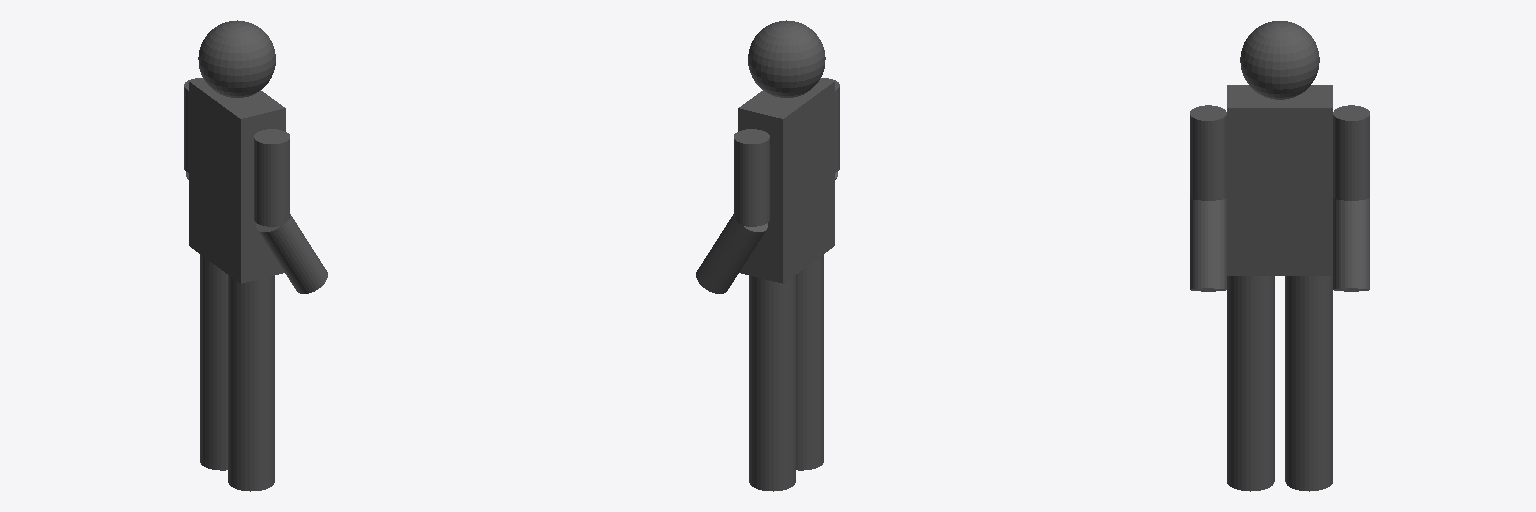
robot.urdf — person:
<?xml version="1.0" ?>
<!-- =================================================================================== -->
<!-- |    This document was autogenerated by xacro from person.test.xacro              | -->
<!-- |    EDITING THIS FILE BY HAND IS NOT RECOMMENDED                                 | -->
<!-- =================================================================================== -->
<robot name="person" xmlns:xacro="http://ros.org/wiki/xacro">
  <!-- Included URDF Files -->
  <material name="light_grey">
    <color rgba="0.7 0.7 0.7 1"/>
  </material>
  <material name="dark_grey">
    <color rgba="0.4 0.4 0.4 1"/>
  </material>
  <!-- Add the person -->
  <link name="base_footprint">
    <visual>
      <origin rpy="0 0 0" xyz="0 0 0"/>
      <geometry>
        <box size="0.001 0.001 0.001"/>
      </geometry>
    </visual>
  </link>
  <joint name="base_link_joint" type="fixed">
    <origin rpy="0 0 0" xyz="0.0 0 1.25"/>
    <parent link="base_footprint"/>
    <child link="base_link"/>
  </joint>
  <link name="base_link">
    <inertial>
      <mass value="40"/>
      <origin xyz="0 0 0"/>
      <inertia ixx="1.0" ixy="0.0" ixz="0.0" iyy="1.0" iyz="0.0" izz="1.0"/>
    </inertial>
    <visual>
      <geometry>
        <box size="0.2 0.4 0.7"/>
      </geometry>
      <material name="dark_grey"/>
    </visual>
    <collision>
      <geometry>
        <box size="0.2 0.4 0.6"/>
      </geometry>
    </collision>
  </link>
  <joint name="lidar_joint" type="fixed">
    <origin rpy="0 0 0" xyz="0.15 0 0"/>
    <parent link="base_link"/>
    <child link="lidar_link"/>
  </joint>
  <link name="lidar_link">
    <inertial>
      <mass value="0.001"/>
      <origin xyz="0 0 0"/>
      <inertia ixx="0.01" ixy="0.0" ixz="0.0" iyy="0.01" iyz="0.0" izz="0.01"/>
    </inertial>
  </link>
  <joint name="left_leg_joint" type="fixed">
    <origin rpy="0 0 0" xyz="0.0 0.11 -0.35"/>
    <parent link="base_link"/>
    <child link="left_leg_link"/>
  </joint>
  <link name="left_leg_link">
    <inertial>
      <mass value="40"/>
      <origin xyz="0 0 0"/>
      <inertia ixx="1.0" ixy="0.0" ixz="0.0" iyy="1.0" iyz="0.0" izz="1.0"/>
    </inertial>
    <visual>
      <origin xyz="0 0 -0.45"/>
      <geometry>
        <cylinder length="0.9" radius="0.09"/>
      </geometry>
      <material name="dark_grey"/>
    </visual>
    <collision>
      <origin xyz="0 0 -0.45"/>
      <geometry>
        <cylinder length="0.9" radius="0.09"/>
      </geometry>
    </collision>
  </link>
  <joint name="right_leg_joint" type="fixed">
    <origin rpy="0 0 0" xyz="0.0 -0.11 -0.35"/>
    <parent link="base_link"/>
    <child link="right_leg_link"/>
  </joint>
  <link name="right_leg_link">
    <inertial>
      <mass value="40"/>
      <origin xyz="0 0 0"/>
      <inertia ixx="1.0" ixy="0.0" ixz="0.0" iyy="1.0" iyz="0.0" izz="1.0"/>
    </inertial>
    <visual>
      <origin xyz="0 0 -0.45"/>
      <geometry>
        <cylinder length="0.9" radius="0.09"/>
      </geometry>
      <material name="dark_grey"/>
    </visual>
    <collision>
      <origin xyz="0 0 -0.45"/>
      <geometry>
        <cylinder length="0.9" radius="0.09"/>
      </geometry>
    </collision>
  </link>
  <joint name="head_joint" type="fixed">
    <origin rpy="0 0 0" xyz="0 0 0.5"/>
    <parent link="base_link"/>
    <child link="head_link"/>
  </joint>
  <link name="head_link">
    <inertial>
      <mass value="20"/>
      <origin xyz="0 0 0"/>
      <inertia ixx="1.0" ixy="0.0" ixz="0.0" iyy="1.0" iyz="0.0" izz="1.0"/>
    </inertial>
    <visual>
      <geometry>
        <sphere radius="0.15"/>
      </geometry>
      <material name="dark_grey"/>
    </visual>
    <collision>
      <geometry>
        <sphere radius="0.15"/>
      </geometry>
    </collision>
  </link>
  <joint name="camera_joint" type="fixed">
    <origin rpy="0 0 0" xyz="0.15 0 0"/>
    <parent link="head_link"/>
    <child link="camera_link"/>
  </joint>
  <link name="camera_link">
    <inertial>
      <mass value="0.001"/>
      <origin xyz="0 0 0"/>
      <inertia ixx="0.01" ixy="0.0" ixz="0.0" iyy="0.01" iyz="0.0" izz="0.01"/>
    </inertial>
  </link>
  <joint name="camera_optical_joint" type="fixed">
    <origin rpy="-1.5707963268 0 -1.5707963268" xyz="0 0 0"/>
    <parent link="camera_link"/>
    <child link="camera_optical_link"/>
  </joint>
  <link name="camera_optical_link">
    <inertial>
      <mass value="0.001"/>
      <origin xyz="0 0 0"/>
      <inertia ixx="0.01" ixy="0.0" ixz="0.0" iyy="0.01" iyz="0.0" izz="0.01"/>
    </inertial>
  </link>
  <joint name="left_arm_joint" type="fixed">
    <origin rpy="0 3.14159265359 0" xyz="0 0.27 0.28"/>
    <parent link="base_link"/>
    <child link="left_arm_link"/>
  </joint>
  <link name="left_arm_link">
    <inertial>
      <mass value="20"/>
      <origin xyz="0 0 0"/>
      <inertia ixx="1.0" ixy="0.0" ixz="0.0" iyy="1.0" iyz="0.0" izz="1.0"/>
    </inertial>
    <visual>
      <origin xyz="0 0 0.175"/>
      <geometry>
        <cylinder length="0.35" radius="0.07"/>
      </geometry>
      <material name="dark_grey"/>
    </visual>
    <collision>
      <origin xyz="0 0 0.175"/>
      <geometry>
        <cylinder length="0.35" radius="0.07"/>
      </geometry>
    </collision>
  </link>
  <joint name="left_forearm_joint" type="fixed">
    <origin rpy="0 -0.523598775598 0" xyz="0 0 0.35"/>
    <parent link="left_arm_link"/>
    <child link="left_forearm_link"/>
  </joint>
  <link name="left_forearm_link">
    <inertial>
      <mass value="20"/>
      <origin xyz="0 0 0"/>
      <inertia ixx="1.0" ixy="0.0" ixz="0.0" iyy="1.0" iyz="0.0" izz="1.0"/>
    </inertial>
    <visual>
      <origin xyz="0 0 0.175"/>
      <geometry>
        <cylinder length="0.35" radius="0.07"/>
      </geometry>
      <material name="dark_grey"/>
    </visual>
    <collision>
      <origin xyz="0 0 0.175"/>
      <geometry>
        <cylinder length="0.35" radius="0.07"/>
      </geometry>
    </collision>
  </link>
  <joint name="right_arm_joint" type="fixed">
    <origin rpy="0 3.14159265359 0" xyz="0 -0.27 0.28"/>
    <parent link="base_link"/>
    <child link="right_arm_link"/>
  </joint>
  <link name="right_arm_link">
    <inertial>
      <mass value="20"/>
      <origin xyz="0 0 0"/>
      <inertia ixx="1.0" ixy="0.0" ixz="0.0" iyy="1.0" iyz="0.0" izz="1.0"/>
    </inertial>
    <visual>
      <origin xyz="0 0 0.175"/>
      <geometry>
        <cylinder length="0.35" radius="0.07"/>
      </geometry>
      <material name="dark_grey"/>
    </visual>
    <collision>
      <origin xyz="0 0 0.175"/>
      <geometry>
        <cylinder length="0.35" radius="0.07"/>
      </geometry>
    </collision>
  </link>
  <joint name="right_forearm_joint" type="fixed">
    <origin rpy="0 -0.523598775598 0" xyz="0 0 0.35"/>
    <parent link="right_arm_link"/>
    <child link="right_forearm_link"/>
  </joint>
  <link name="right_forearm_link">
    <inertial>
      <mass value="20"/>
      <origin xyz="0 0 0"/>
      <inertia ixx="1.0" ixy="0.0" ixz="0.0" iyy="1.0" iyz="0.0" izz="1.0"/>
    </inertial>
    <visual>
      <origin xyz="0 0 0.175"/>
      <geometry>
        <cylinder length="0.35" radius="0.07"/>
      </geometry>
      <material name="dark_grey"/>
    </visual>
    <collision>
      <origin xyz="0 0 0.175"/>
      <geometry>
        <cylinder length="0.35" radius="0.07"/>
      </geometry>
    </collision>
  </link>
</robot>

--- What the picture shows (computed from the rendered views, not written in the file) ---
3 views of the same robot in one strip: view 1: azimuth 30°, elevation 25°; view 2: azimuth 150°, elevation 25°; view 3: azimuth 270°, elevation 25° (orthographic).
Model person with 12 links and 11 joints (11 fixed), rooted at base_footprint, posed all joints at 0.
Visible links, largest first — view 1: base_link, right_leg_link, left_leg_link, head_link, right_arm_link, right_forearm_link; view 2: base_link, left_leg_link, right_leg_link, head_link, left_arm_link, left_forearm_link; view 3: base_link, left_leg_link, right_leg_link, head_link, left_arm_link, right_arm_link, left_forearm_link, right_forearm_link.
Boxes of the visible links, left/top/right/bottom form: base_link: left=189, top=78, right=285, bottom=283; right_leg_link: left=228, top=275, right=274, bottom=491; left_leg_link: left=200, top=254, right=227, bottom=470; head_link: left=198, top=20, right=275, bottom=97; right_arm_link: left=254, top=129, right=289, bottom=226; right_forearm_link: left=256, top=214, right=327, bottom=293; base_link: left=738, top=78, right=834, bottom=283; left_leg_link: left=749, top=275, right=795, bottom=491; right_leg_link: left=796, top=254, right=823, bottom=470; head_link: left=748, top=20, right=825, bottom=97; left_arm_link: left=734, top=129, right=769, bottom=226; left_forearm_link: left=696, top=214, right=767, bottom=293; base_link: left=1227, top=85, right=1332, bottom=275; left_leg_link: left=1285, top=276, right=1332, bottom=491; right_leg_link: left=1227, top=276, right=1274, bottom=491; head_link: left=1240, top=21, right=1319, bottom=99; left_arm_link: left=1333, top=105, right=1369, bottom=200; right_arm_link: left=1190, top=105, right=1226, bottom=200; left_forearm_link: left=1333, top=198, right=1369, bottom=291; right_forearm_link: left=1190, top=198, right=1226, bottom=291.
Size in the robot's own frame: 0.3856 by 0.68 by 1.9 metres.
Geometry: primitives only (box / cylinder / sphere), no mesh files.
